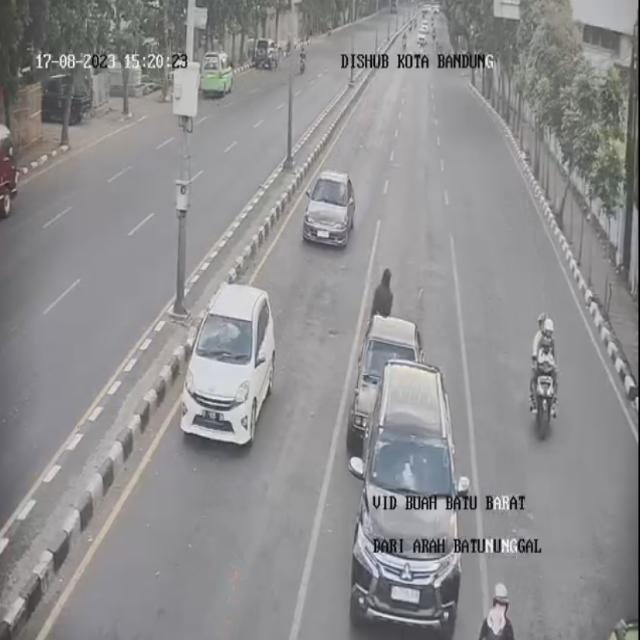cars: (182, 282, 274, 456), (307, 170, 360, 254)
motorcycle: (353, 365, 477, 640), (348, 313, 422, 457), (526, 313, 571, 442), (461, 580, 537, 640)
